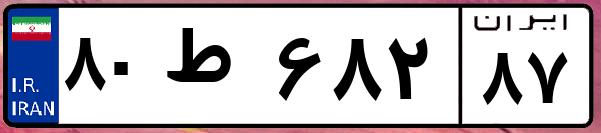0: (110, 28, 158, 98)
2: (385, 28, 445, 110)
6: (270, 28, 330, 110)
7: (525, 38, 570, 115)
8: (330, 28, 385, 110), (57, 26, 110, 100), (475, 38, 525, 113)
ط: (158, 20, 270, 120)
